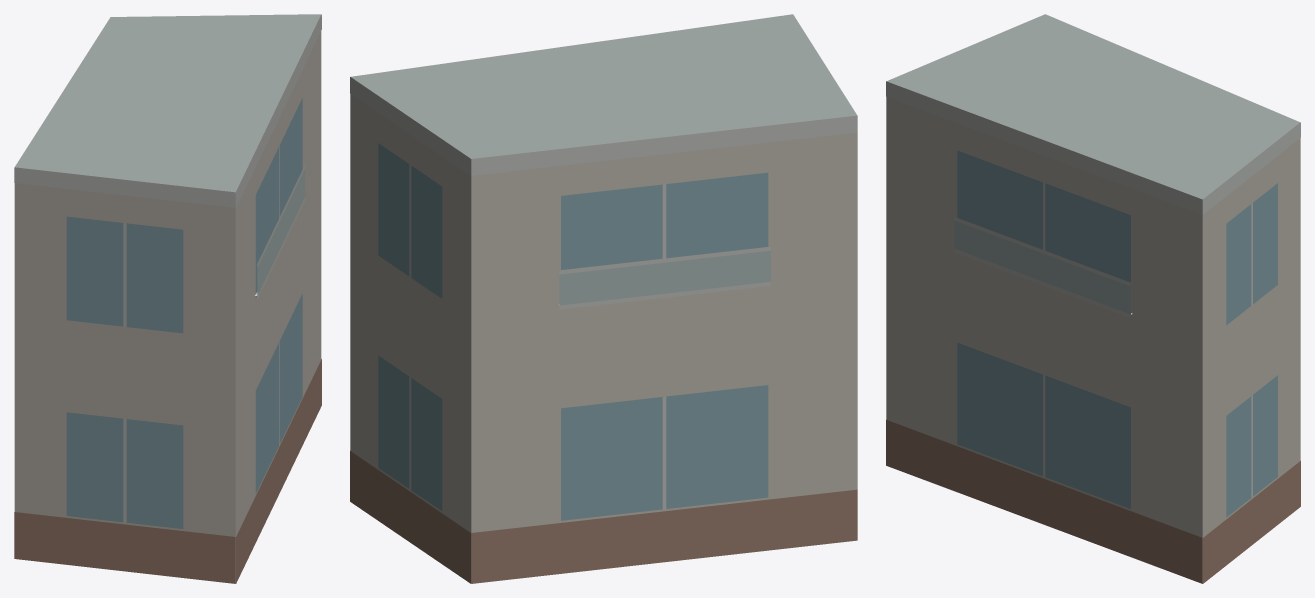
File: survey-upis-32467115.glb
The picture shows the model from 3 angles, left to right: view 1: azimuth 30°, elevation 25°; view 2: azimuth 150°, elevation 25°; view 3: azimuth 270°, elevation 25°; orthographic projection. The views are drawn at different scales.
Parts seen in each view (by area): view 1: survey-upis-32467115.tmp; view 2: survey-upis-32467115.tmp; view 3: survey-upis-32467115.tmp.
Boxes of the visible parts, x1,y1,x2,y2 form: survey-upis-32467115.tmp: (14, 14, 321, 583); survey-upis-32467115.tmp: (350, 14, 857, 583); survey-upis-32467115.tmp: (886, 14, 1300, 583).
Bounding box in the file's own units: 6.32 × 6.1 × 5.97.
